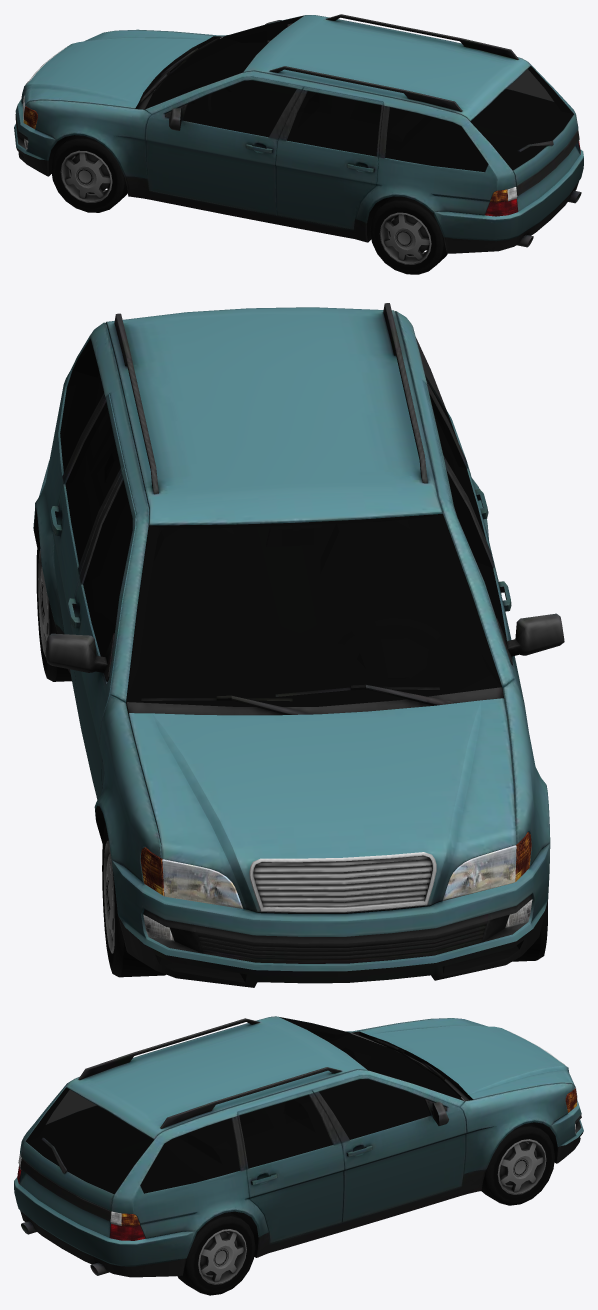
File: wagon.glb
3 renders of one model, top to bottom at view 1: azimuth 30°, elevation 25°; view 2: azimuth 150°, elevation 25°; view 3: azimuth 270°, elevation 25°, orthographic. The views are drawn at different scales.
Parts seen in each view (by area): view 1: Wagon Body, Wheel_A001, Wheel_A; view 2: Wagon Body, Wheel_A002, Wheel_A003; view 3: Wagon Body, Wheel_A003, Wheel_A002.
Part boxes in pixels (x1,y1,x2,y2): Wagon Body: (14,14,583,253); Wheel_A001: (370,196,447,274); Wheel_A: (51,135,127,212); Wagon Body: (33,303,564,987); Wheel_A002: (102,824,165,977); Wheel_A003: (36,534,71,681); Wagon Body: (14,1016,583,1277); Wheel_A003: (177,1212,255,1295); Wheel_A002: (481,1123,554,1205).
Size of the model in its own units: 3.43 by 1.38 by 4.09.
Materials: 4 (3 with a texture image).
